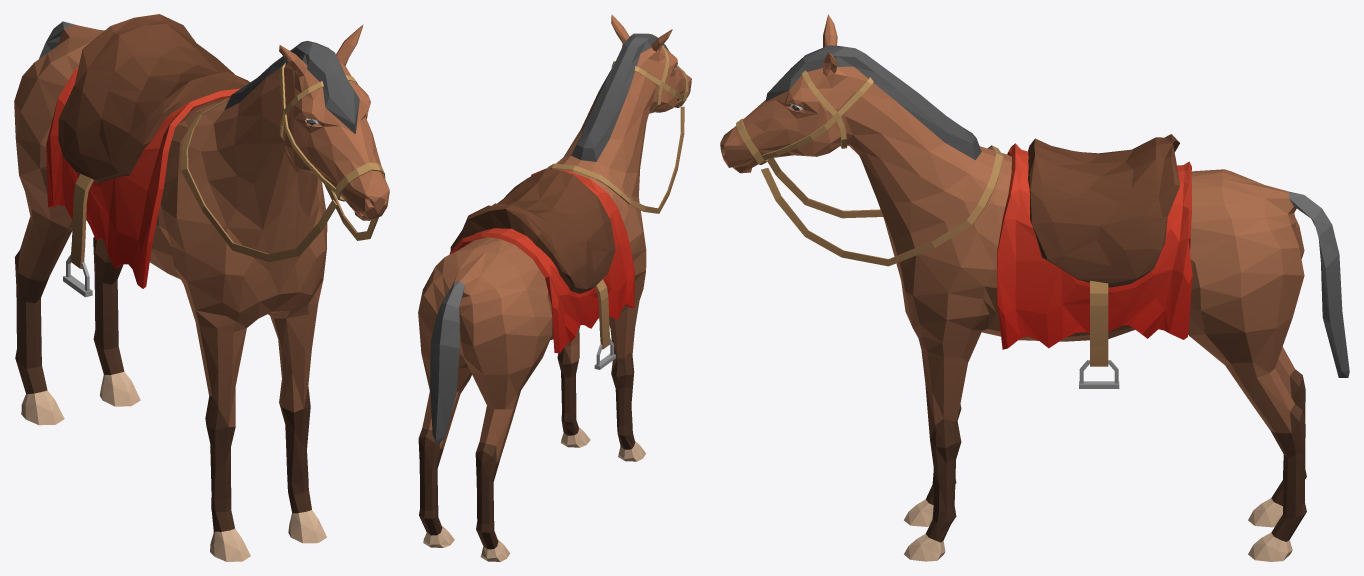
File: horse brown.fbx
The picture shows the model from 3 angles, left to right: view 1: azimuth 30°, elevation 25°; view 2: azimuth 150°, elevation 25°; view 3: azimuth 270°, elevation 25°; orthographic projection. The views are drawn at different scales.
Visible parts, largest first — view 1: horse brown; view 2: horse brown; view 3: horse brown.
Part boxes in pixels (box(x1,y1,x2,y2)): horse brown: box(14, 14, 389, 561); horse brown: box(418, 14, 691, 561); horse brown: box(720, 14, 1349, 561).
Size of the model in its own units: 77.65 by 203 by 229.
